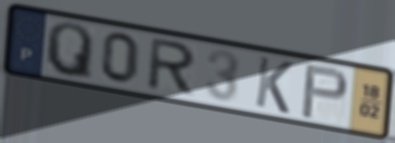0: (98, 31, 144, 86)
3: (204, 48, 244, 104)
K: (253, 54, 296, 117)
P: (298, 63, 351, 122)
Q: (44, 21, 95, 83)
R: (143, 37, 200, 98)
